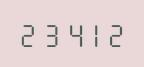four: (60, 20, 80, 47)
one: (81, 20, 101, 47)
three: (39, 20, 59, 47)
two: (18, 20, 38, 47), (102, 20, 122, 47)
